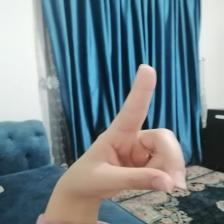one: (60, 63, 190, 214)
